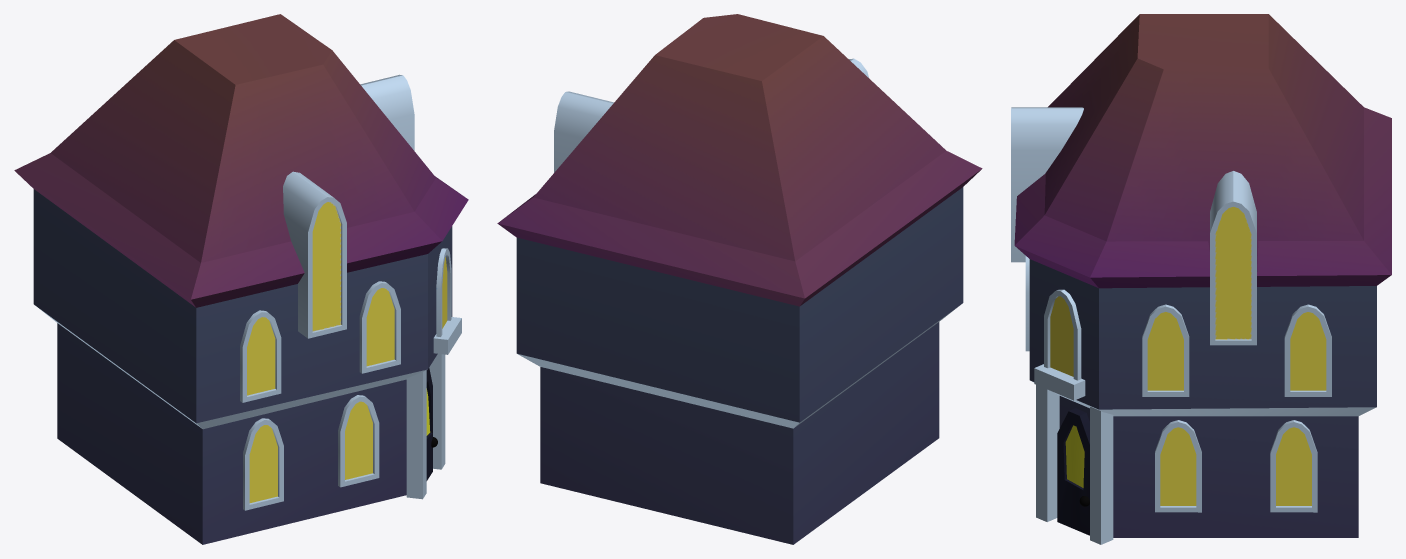
File: Building1.fbx
The picture shows the model from 3 angles, left to right: view 1: azimuth 30°, elevation 25°; view 2: azimuth 150°, elevation 25°; view 3: azimuth 270°, elevation 25°; orthographic projection. The views are drawn at different scales.
Parts seen in each view (by area): view 1: Cube; view 2: Cube; view 3: Cube.
Boxes of the visible parts, x1,y1,x2,y2 form: Cube: (14, 14, 468, 544); Cube: (497, 14, 982, 544); Cube: (1011, 14, 1391, 544).
Bounding box in the file's own units: 249 × 313 × 249.
